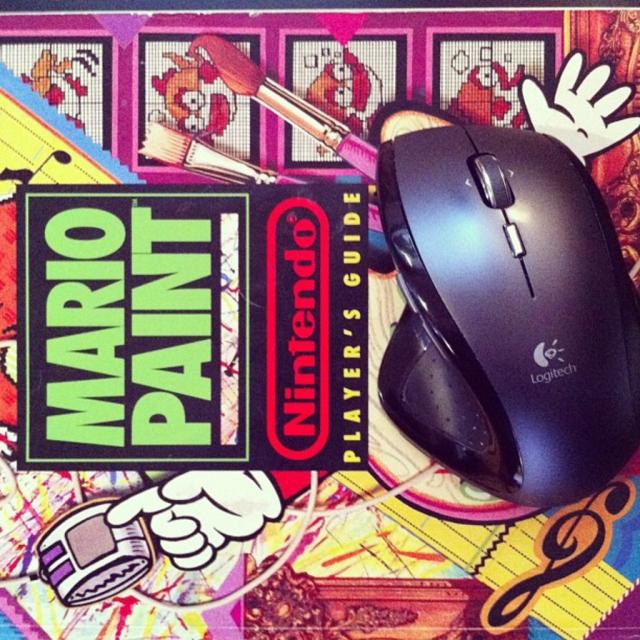Computer-mouse: (376, 121, 639, 506)
